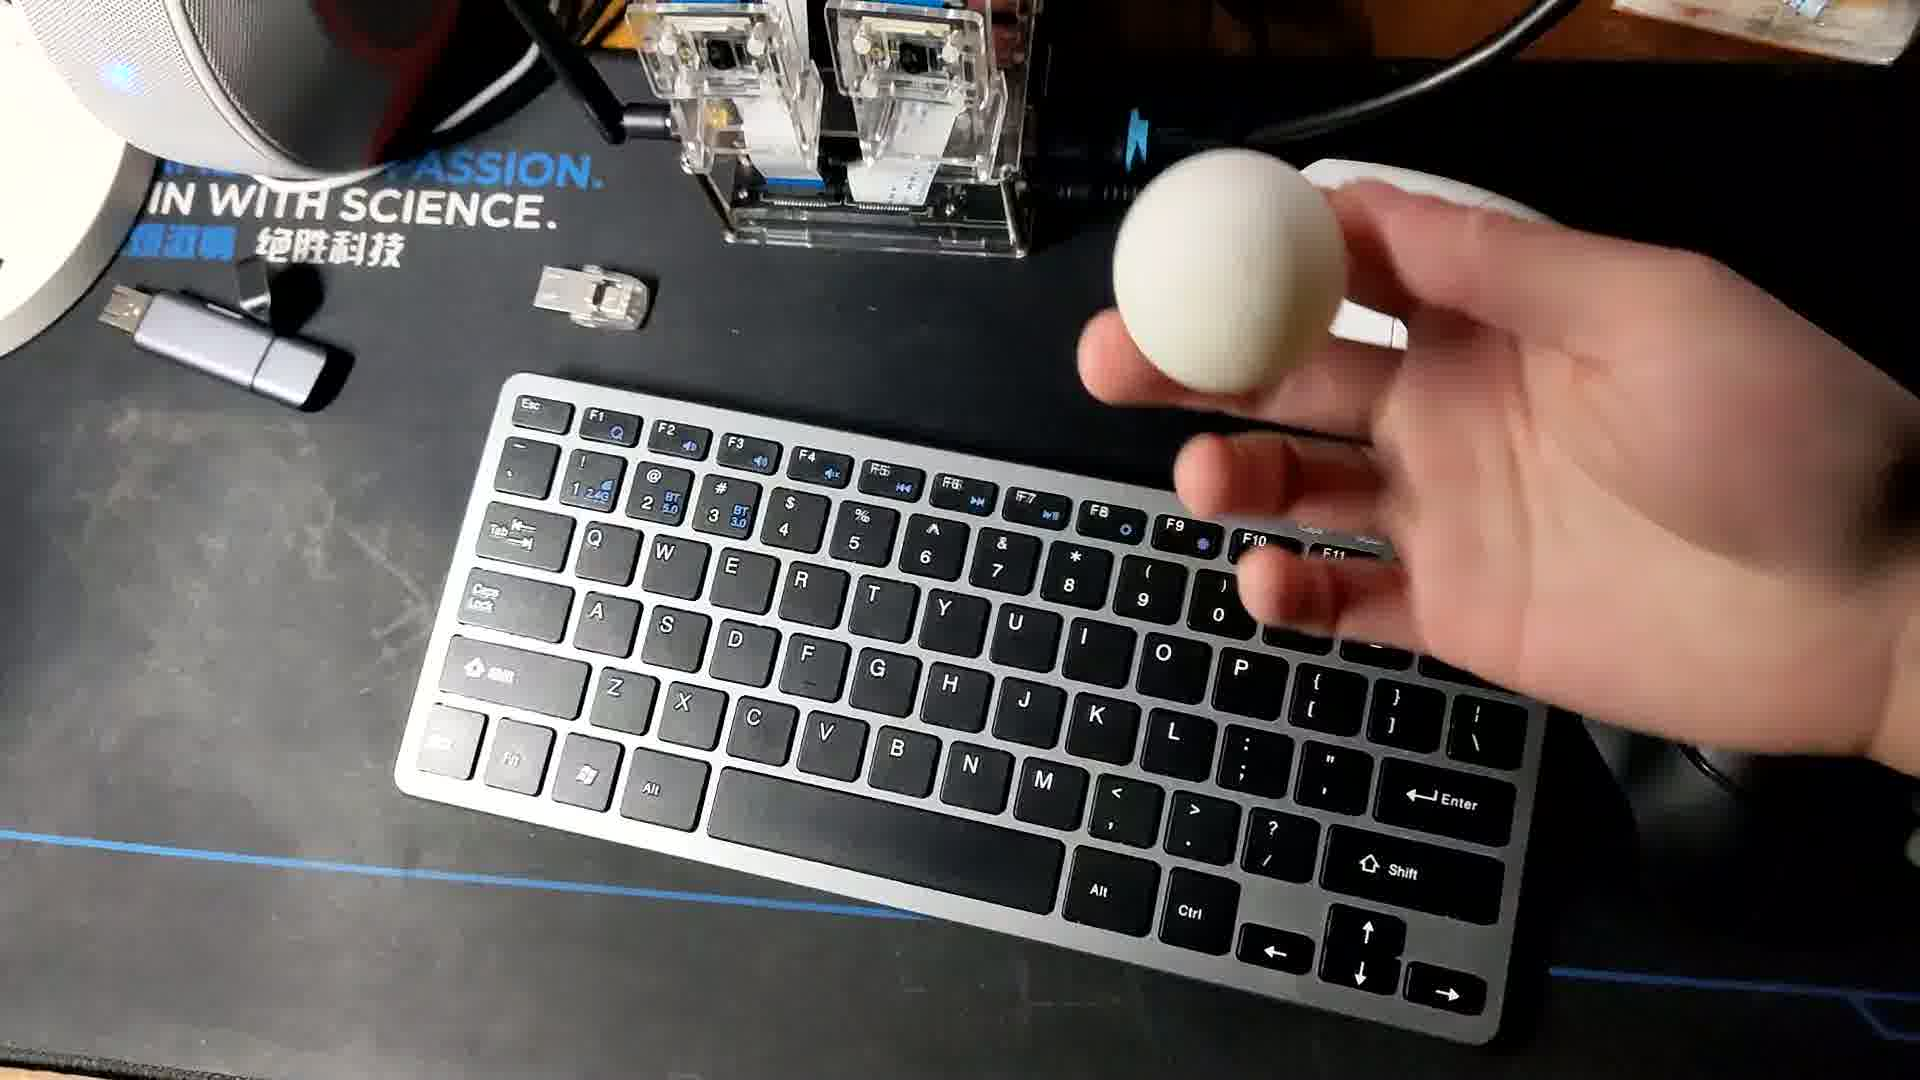Ball: (1112, 153, 1352, 386)
